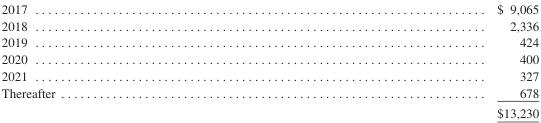table: (0, 1, 538, 120)
table column: (0, 1, 275, 120), (275, 1, 538, 120)
table row: (0, 83, 538, 102), (0, 102, 538, 120), (0, 16, 538, 33), (0, 33, 538, 50), (0, 50, 538, 67), (0, 67, 538, 83), (0, 1, 538, 16)
